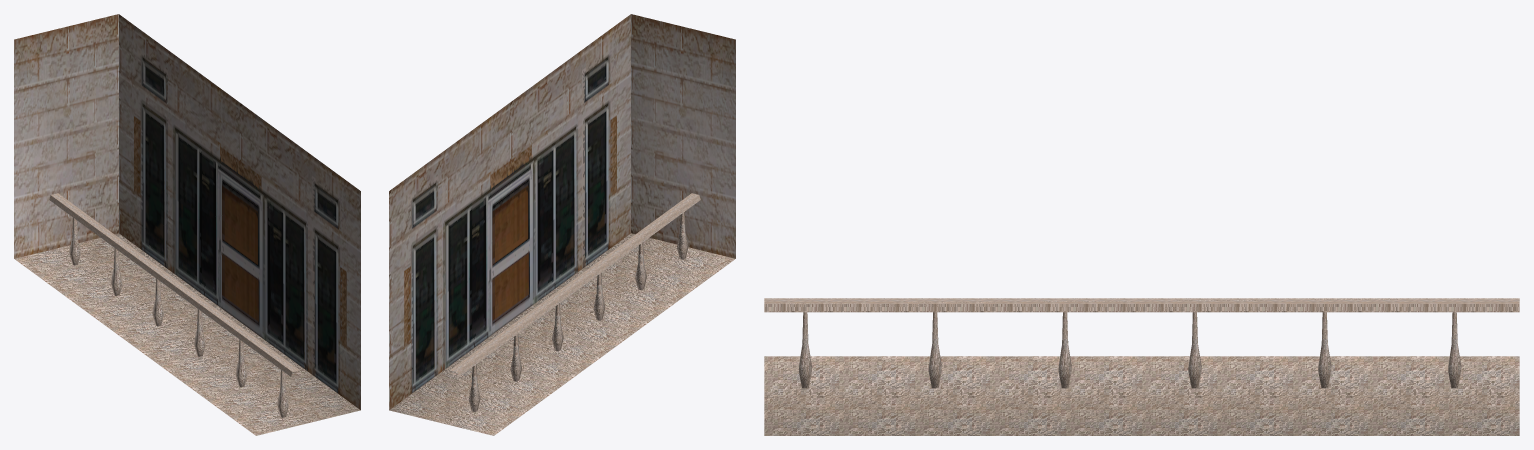
File: M2Zone4_Building15_E.glb
3 views of the same model, side by side, from view 1: azimuth 30°, elevation 25°; view 2: azimuth 150°, elevation 25°; view 3: azimuth 270°, elevation 25° (orthographic). The views are drawn at different scales.
Parts seen in each view (by area): view 1: M2ZONE4_BUILDING15_E; view 2: M2ZONE4_BUILDING15_E; view 3: M2ZONE4_BUILDING15_E.
Boxes of the visible parts, left/top/right/bottom form: M2ZONE4_BUILDING15_E: left=14, top=14, right=360, bottom=435; M2ZONE4_BUILDING15_E: left=389, top=14, right=735, bottom=435; M2ZONE4_BUILDING15_E: left=764, top=298, right=1519, bottom=435.
Bounding box in the file's own units: 2 × 4 × 8.
Materials: 3 (3 with a texture image).
